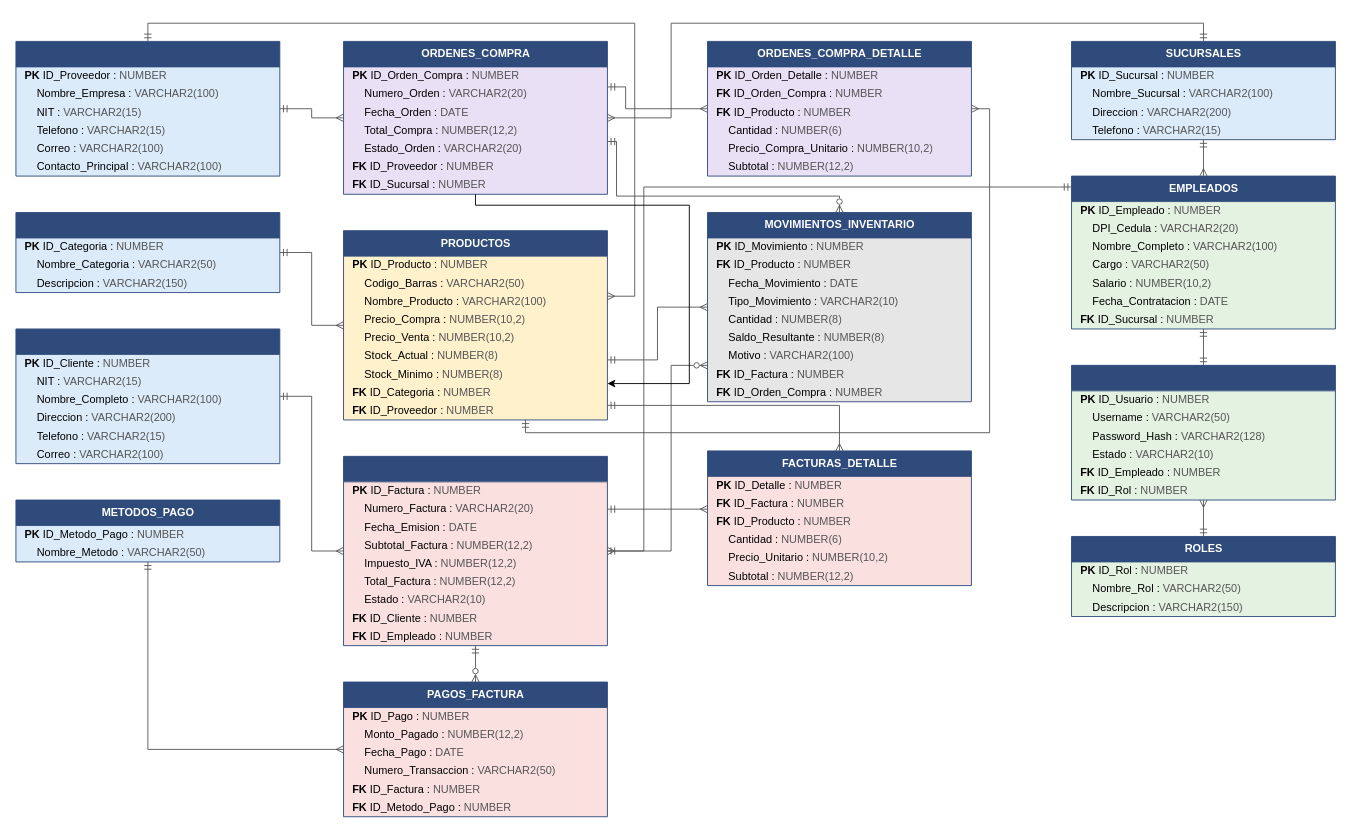
The diagram is 1351 pixels wide and 833 high, and some of its shapes have lost their labels. The box of each missing label's shape, as (x1, y1, x2, y2) in pixels:
CATEGORIAS: (15, 212, 280, 293)
CLIENTES: (15, 328, 280, 464)
FACTURAS_ENCABEZADO: (343, 455, 607, 646)
PROVEEDORES: (15, 40, 280, 176)
USUARIOS: (1071, 364, 1335, 500)
